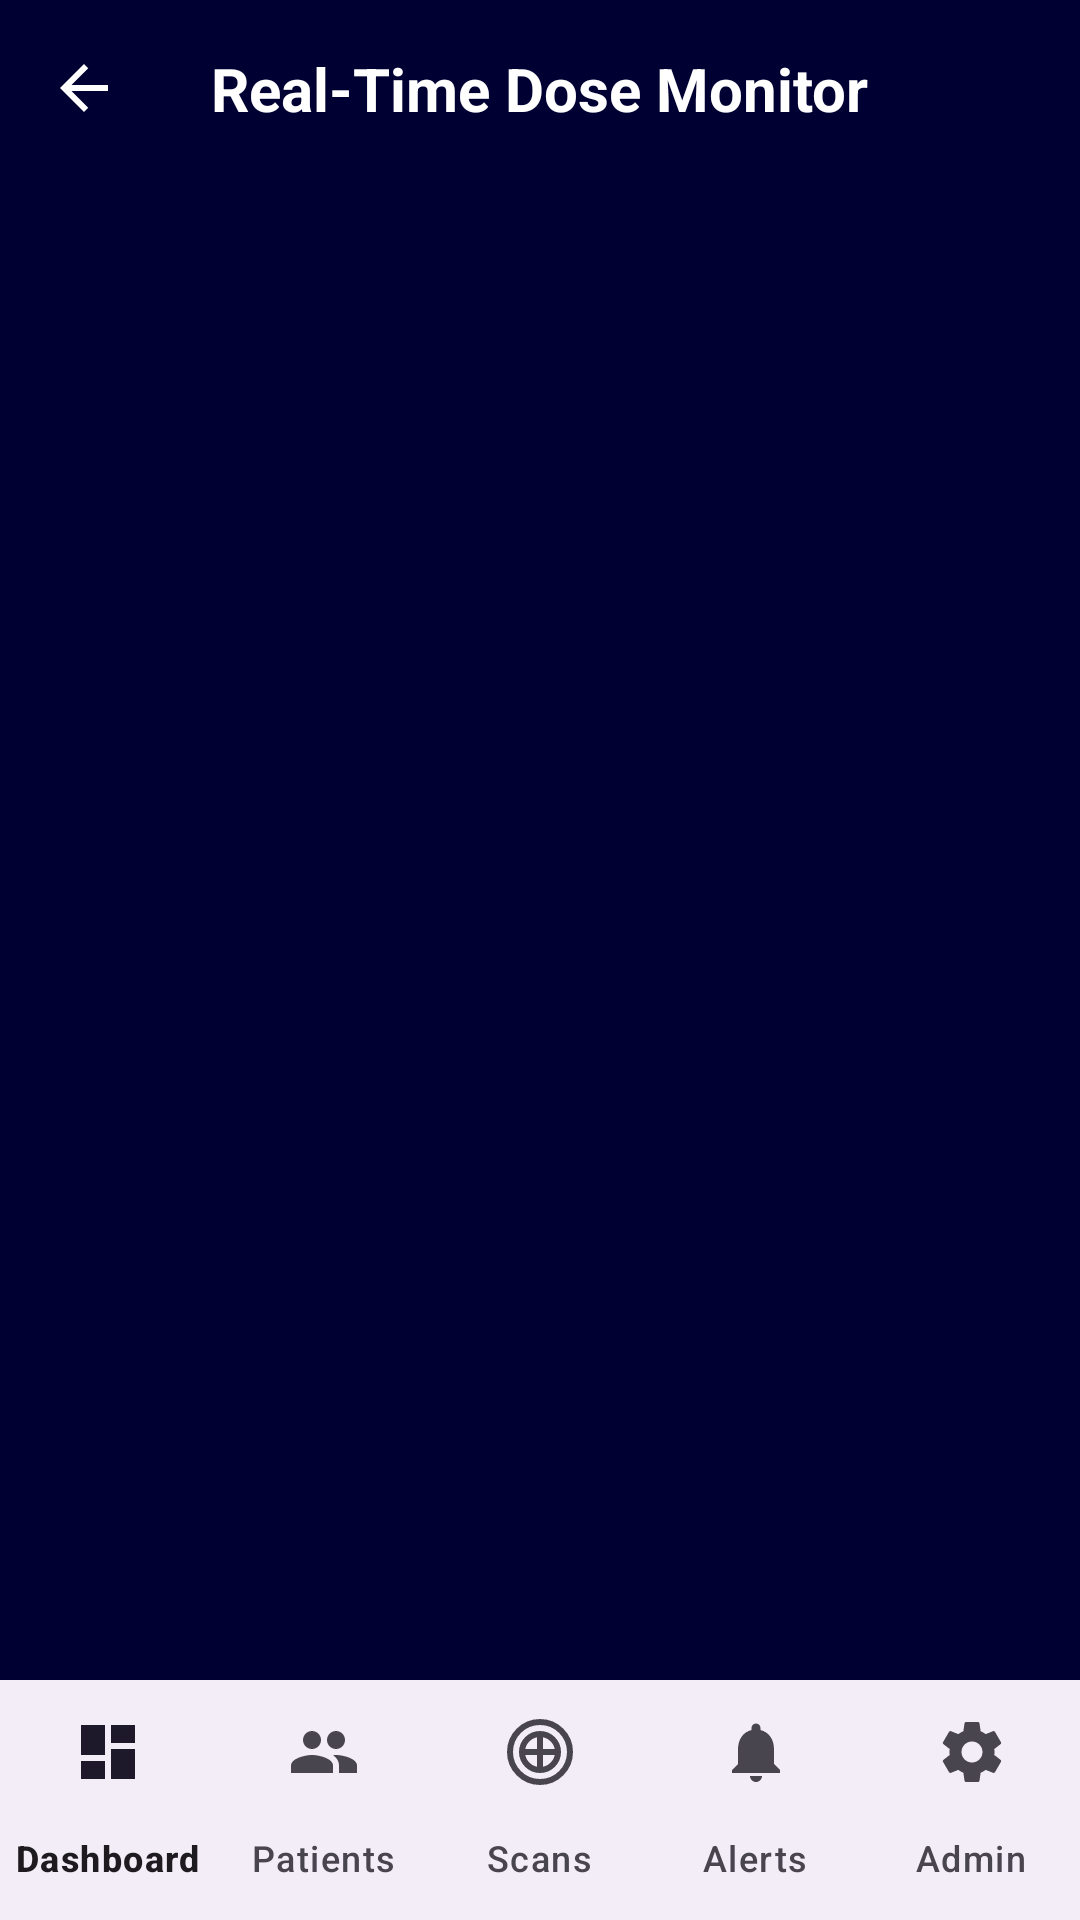

Locate icon controls on the screen. Image size 1080x1920, boxes as bbox(x1, y1, x2, y2).
arrow back: bbox(60, 64, 108, 112)
